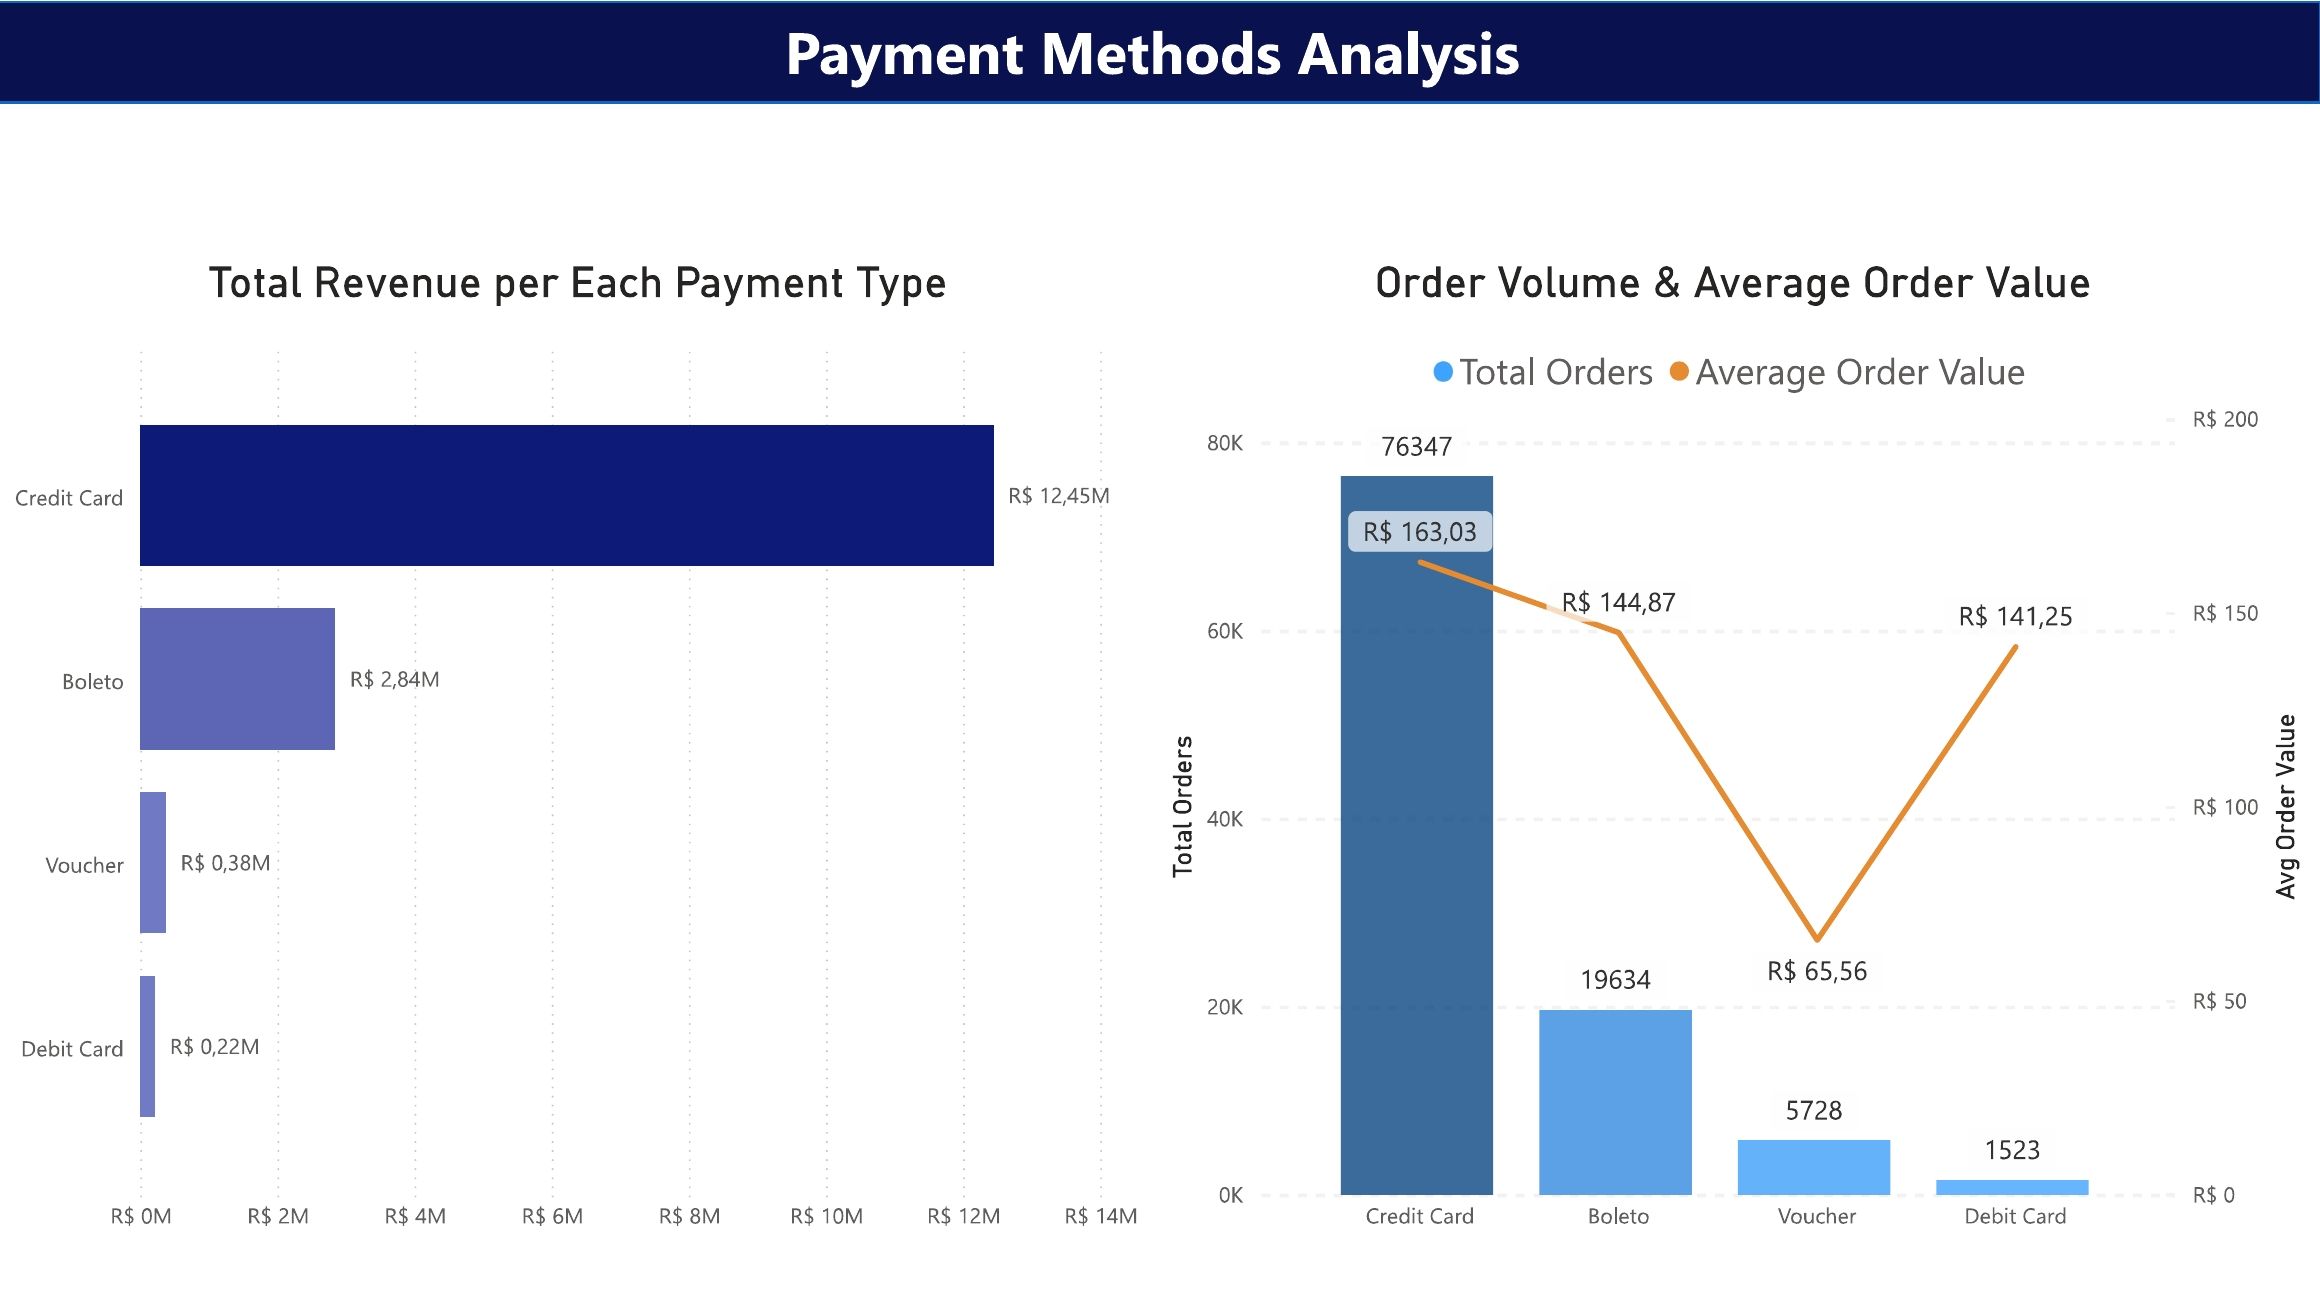

This screenshot's page, from the dashboard's own definition file:
{"tool":"powerbi","page":{"name":"Page 2","canvas":[1280,720],"ordinal":1},"visuals":[{"type":"barChart","title":"Total Revenue per Each Payment Type","fields":{"Y":["Sum(payment_method_breakdown_by_revenue.total_revenue)"],"Category":["payment_method_breakdown_by_revenue.payment_type_clean"]},"box":[0,141.3,640,545.8],"z":0},{"type":"lineClusteredColumnComboChart","title":"Order Volume & Average Order Value","fields":{"Y":["Sum(payment_method_breakdown_by_revenue.total_orders)"],"Y2":["Avg(payment_method_breakdown_by_revenue.avg_order_value)"],"Category":["payment_method_breakdown_by_revenue.payment_type_clean"]},"box":[640,141.3,633.5,545.8],"z":1000},{"type":"shape","box":[0,0,1280,55.9],"z":2000},{"type":"textbox","box":[428.7,0,422.7,58.9],"z":3000}]}

Visuals, with their boxes in screenshot pixels (x1, y1, x2, y2), scaled from the page's 1280x720 canvas onto the 2320x1302 screenshot:
"Total Revenue per Each Payment Type" barChart: BBox(0, 256, 1160, 1243)
"Order Volume & Average Order Value" lineClusteredColumnComboChart: BBox(1160, 256, 2308, 1243)
shape: BBox(0, 0, 2319, 101)
textbox: BBox(777, 0, 1543, 107)
